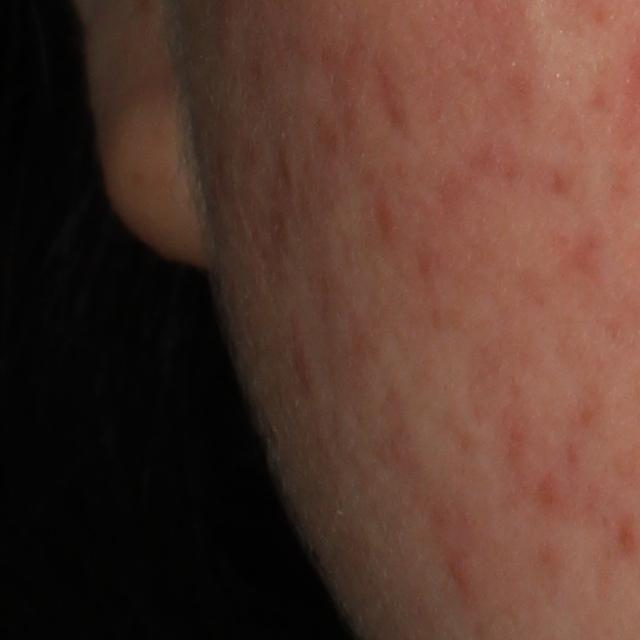papule: (451, 556, 468, 585)
